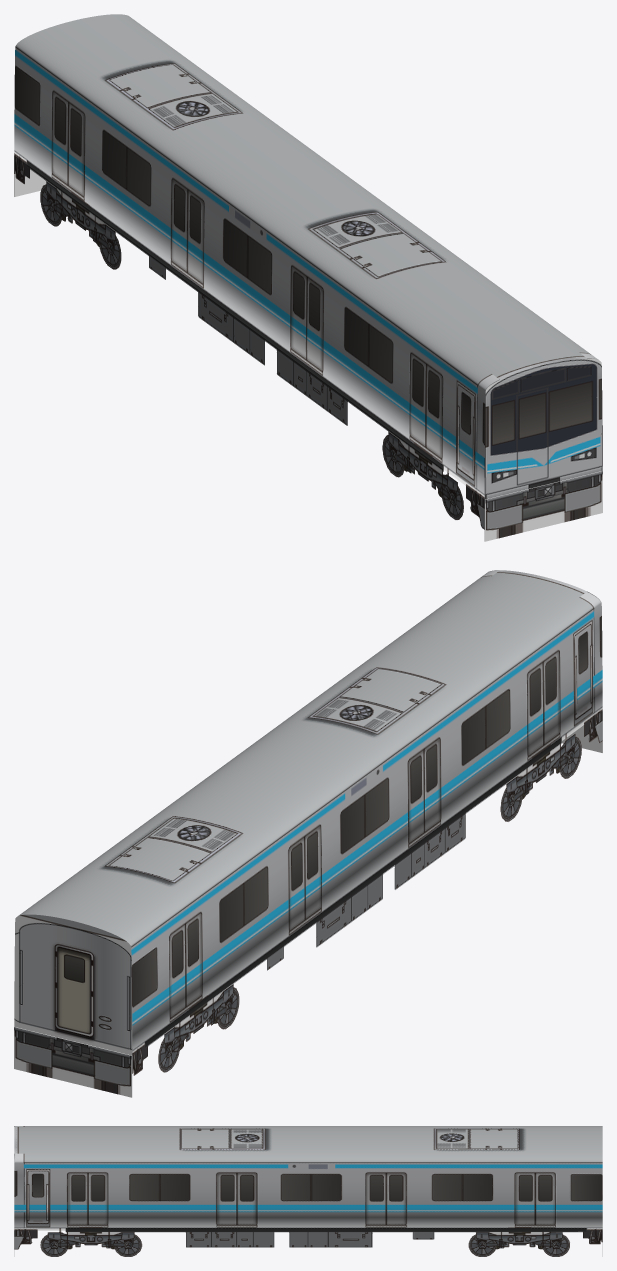
Rendered from car1.glb.
3 renders of one model, top to bottom at view 1: azimuth 30°, elevation 25°; view 2: azimuth 150°, elevation 25°; view 3: azimuth 270°, elevation 25°, orthographic. The views are drawn at different scales.
Visible parts, largest first — view 1: nagoyasub-n3000-car1; view 2: nagoyasub-n3000-car1; view 3: nagoyasub-n3000-car1.
Part boxes in pixels (<box>): nagoyasub-n3000-car1: <box>14,14,602,541</box>; nagoyasub-n3000-car1: <box>14,570,602,1097</box>; nagoyasub-n3000-car1: <box>14,1126,602,1256</box>.
Bounding box in the file's own units: 2.73 × 3.59 × 18.88.
Materials: 8 (7 with a texture image).
